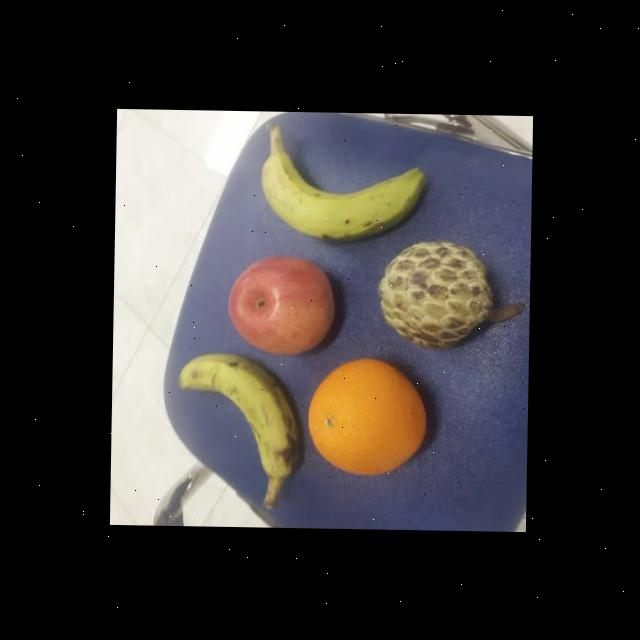Sakya fruit: (378, 236, 497, 356)
apple: (225, 252, 338, 358)
banana: (172, 348, 304, 478), (256, 146, 427, 243)
orange: (301, 356, 429, 482)
